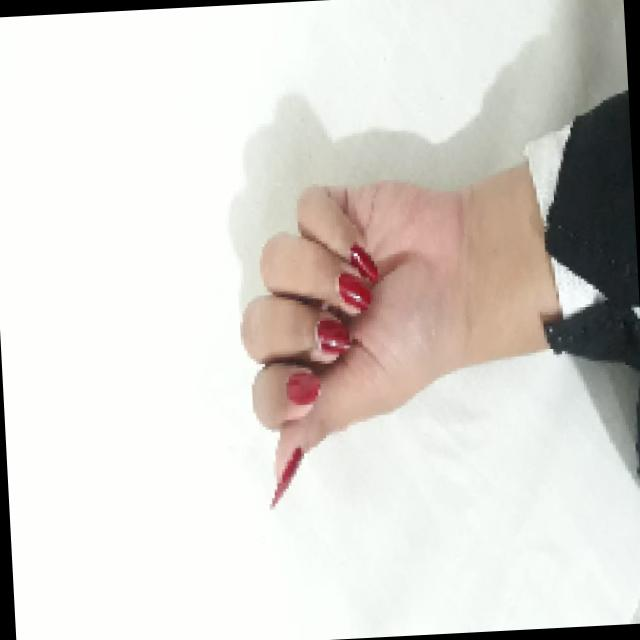Nail: (271, 446, 302, 507), (337, 271, 372, 310), (315, 318, 350, 355), (349, 243, 378, 282), (286, 371, 320, 404)
